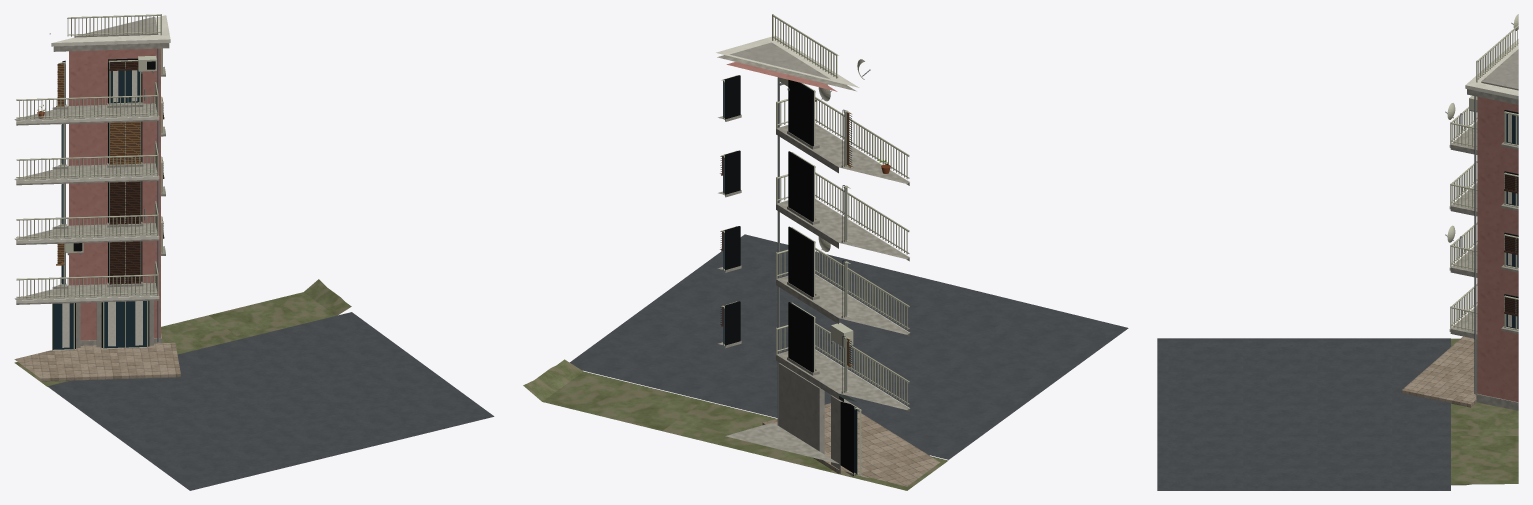
3 renders of one model, left to right at view 1: azimuth 30°, elevation 25°; view 2: azimuth 150°, elevation 25°; view 3: azimuth 270°, elevation 25°, orthographic. The views are drawn at different scales.
Bounding box in the file's own units: 16 × 16.7 × 16.
Materials: 18 (8 with a texture image).
